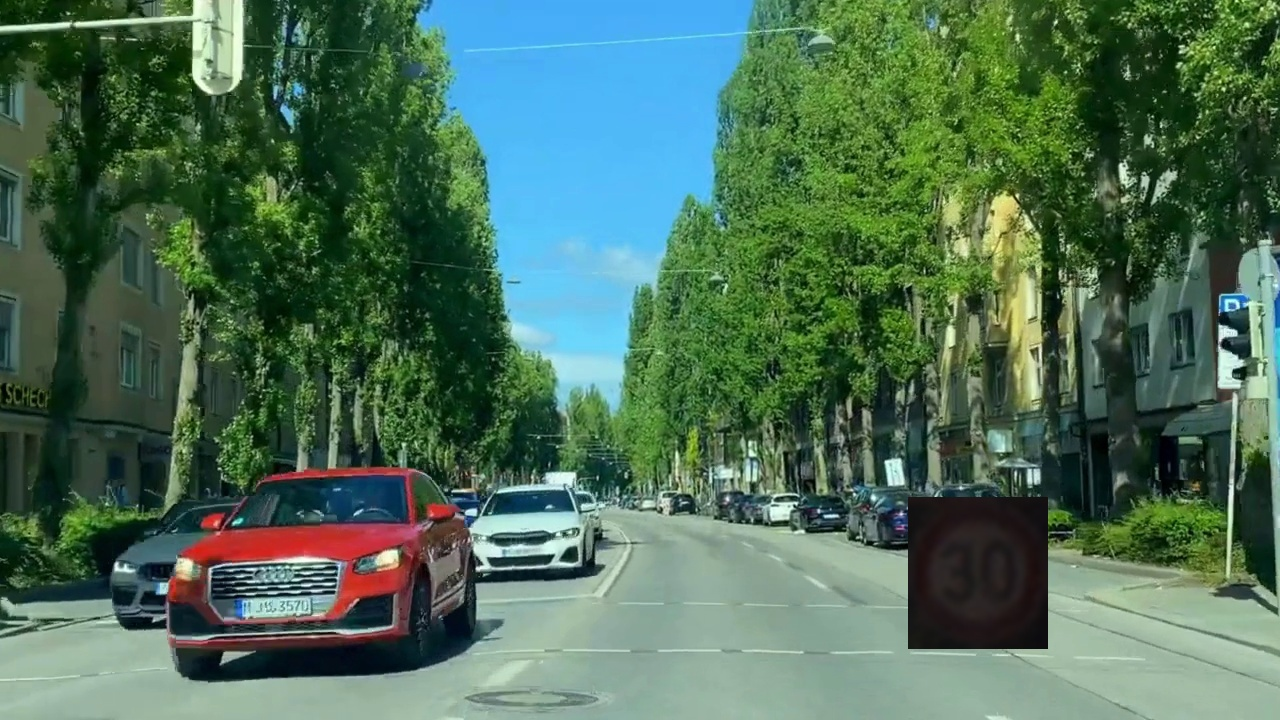Speed 30: (908, 497, 1048, 649)
